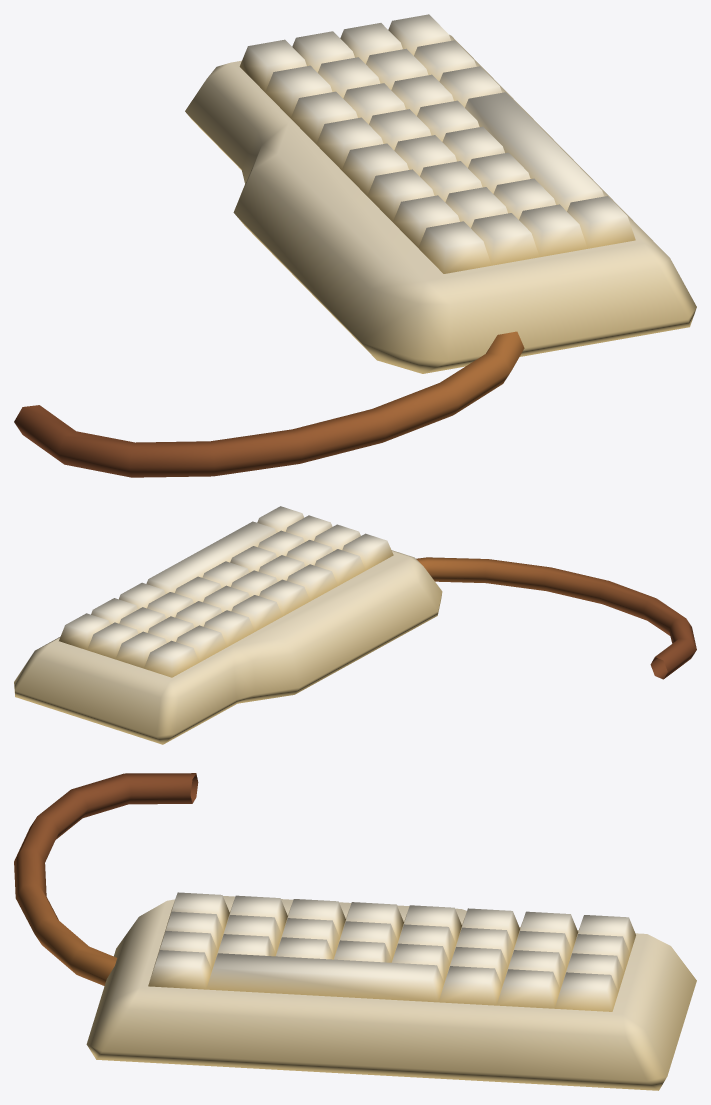
File: Keyboard.fbx
3 renders of one model, top to bottom at view 1: azimuth 30°, elevation 25°; view 2: azimuth 150°, elevation 25°; view 3: azimuth 270°, elevation 25°, orthographic. The views are drawn at different scales.
Parts seen in each view (by area): view 1: Keyboard; view 2: Keyboard; view 3: Keyboard.
Boxes of the visible parts, x1,y1,x2,y2 form: Keyboard: (14, 14, 696, 477); Keyboard: (14, 506, 696, 744); Keyboard: (14, 773, 696, 1090).
Bounding box in the file's own units: 77.36 × 9.94 × 74.39.
